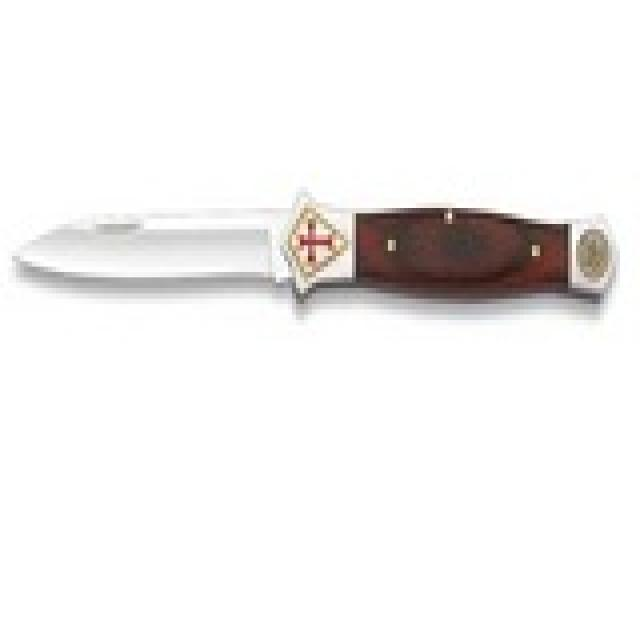Knife: (7, 150, 627, 344)
